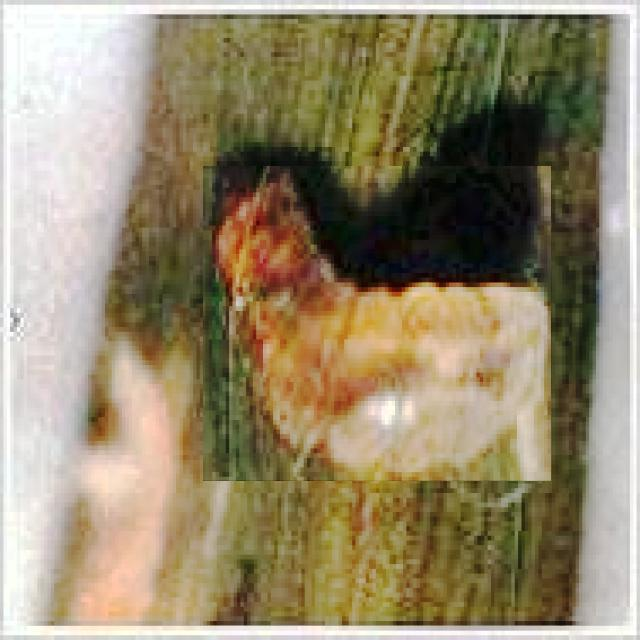whorl-maggot: (203, 167, 551, 480)
